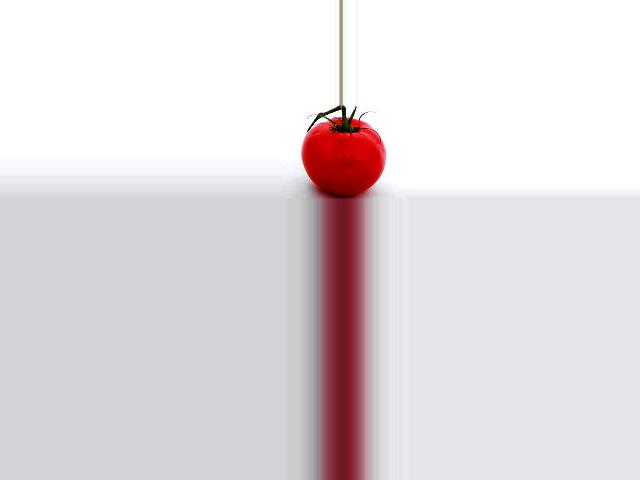tomato: (302, 118, 387, 196)
